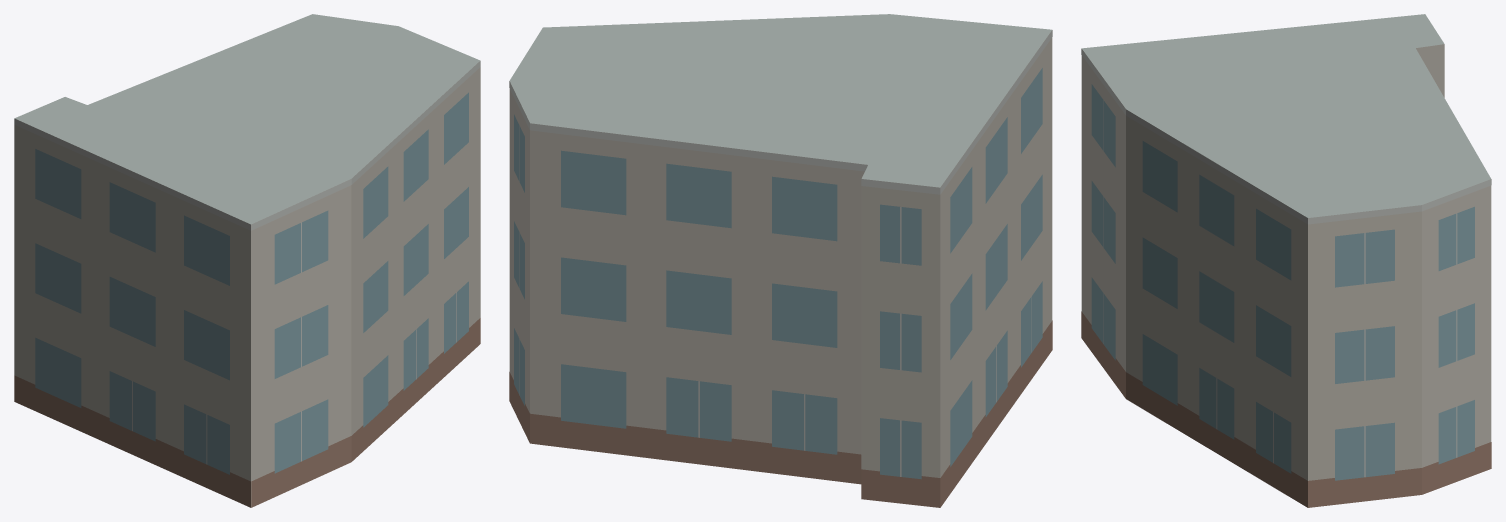
Rendered from survey-upis-32754358.glb.
3 views of the same model, side by side, from view 1: azimuth 30°, elevation 25°; view 2: azimuth 150°, elevation 25°; view 3: azimuth 270°, elevation 25° (orthographic). The views are drawn at different scales.
Visible parts, largest first — view 1: survey-upis-32754358.tmp; view 2: survey-upis-32754358.tmp; view 3: survey-upis-32754358.tmp.
Boxes of the visible parts, <box> form: survey-upis-32754358.tmp: <box>14,14,480,507</box>; survey-upis-32754358.tmp: <box>509,14,1052,507</box>; survey-upis-32754358.tmp: <box>1081,14,1491,507</box>.
Bounding box in the file's own units: 16.62 × 11 × 14.11.
